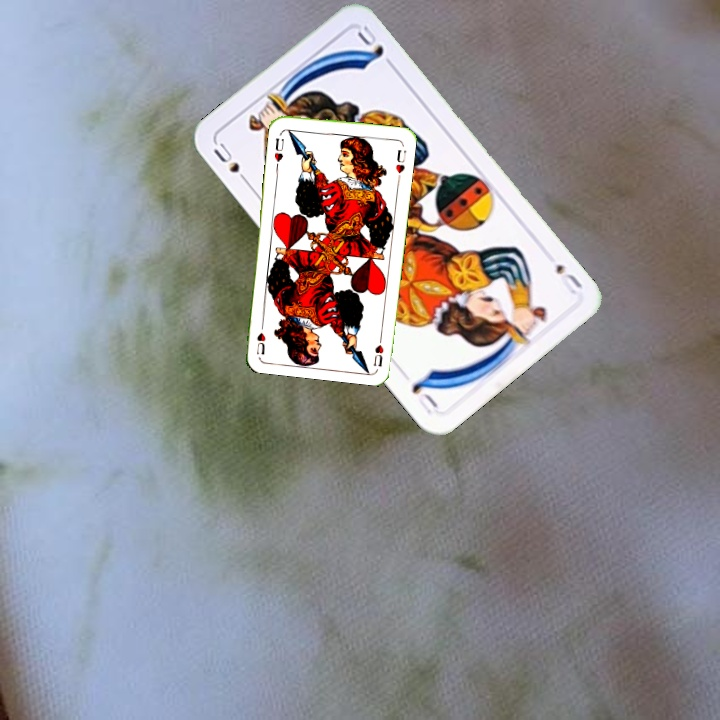HU: (370, 329, 386, 369), (270, 134, 286, 169)
SU: (209, 138, 254, 189), (551, 259, 585, 297)
